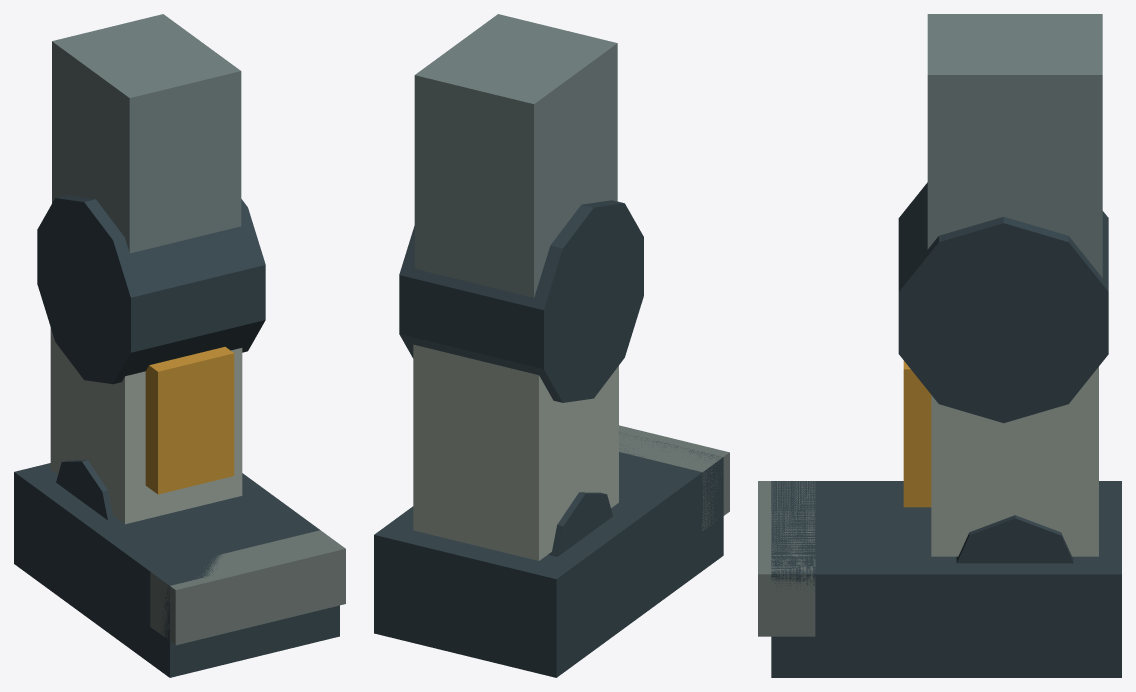
The model's file is robot-leg.glb.
3 views of the same model, side by side, from view 1: azimuth 30°, elevation 25°; view 2: azimuth 150°, elevation 25°; view 3: azimuth 270°, elevation 25° (orthographic). The views are drawn at different scales.
Size of the model in its own units: 0.29 by 0.85 by 0.4775.
